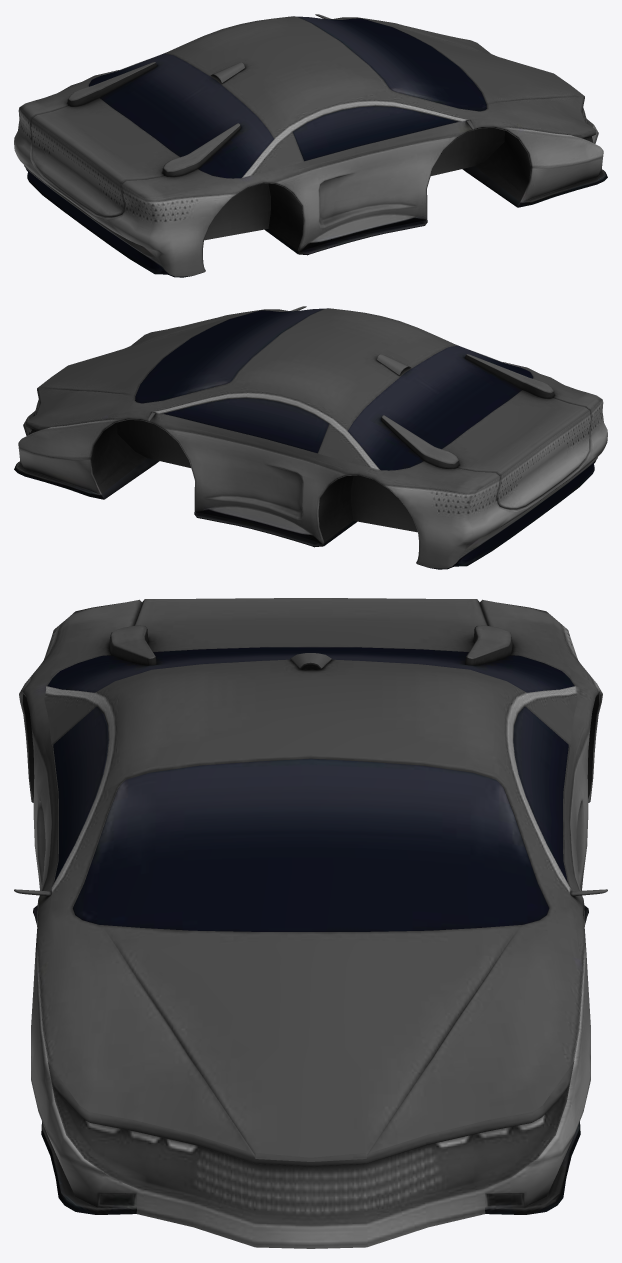
Rendered from f1_car_mercedes_08.dae.
The picture shows the model from 3 angles, top to bottom: view 1: azimuth 30°, elevation 25°; view 2: azimuth 150°, elevation 25°; view 3: azimuth 270°, elevation 25°; orthographic projection. The views are drawn at different scales.
Parts seen in each view (by area): view 1: car_body; view 2: car_body; view 3: car_body.
Part boxes in pixels (bbox=[...]): car_body: bbox=[14, 14, 607, 277]; car_body: bbox=[14, 306, 607, 569]; car_body: bbox=[14, 598, 607, 1248].
Bounding box in the file's own units: 0.3658 × 0.1927 × 0.0974.
1 material, 1 textured.
